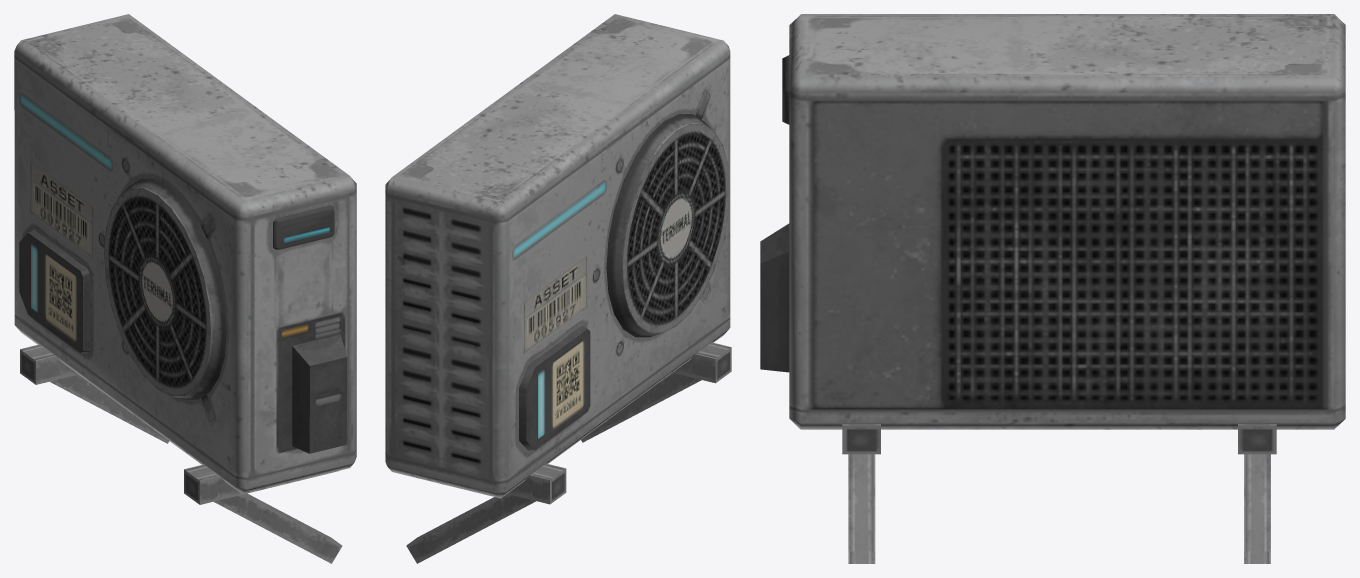
Rendered from CP_Conditioner_05.fbx.
3 views of the same model, side by side, from view 1: azimuth 30°, elevation 25°; view 2: azimuth 150°, elevation 25°; view 3: azimuth 270°, elevation 25° (orthographic). The views are drawn at different scales.
Visible parts, largest first — view 1: CP_Conditioner_05_LOD0; view 2: CP_Conditioner_05_LOD0; view 3: CP_Conditioner_05_LOD0.
Part boxes in pixels (x1,y1,x2,y2): CP_Conditioner_05_LOD0: [14, 14, 356, 563]; CP_Conditioner_05_LOD0: [385, 14, 731, 563]; CP_Conditioner_05_LOD0: [760, 14, 1345, 563].
Size of what is drawn, in the model's own units: 31.39 by 83.29 by 91.
